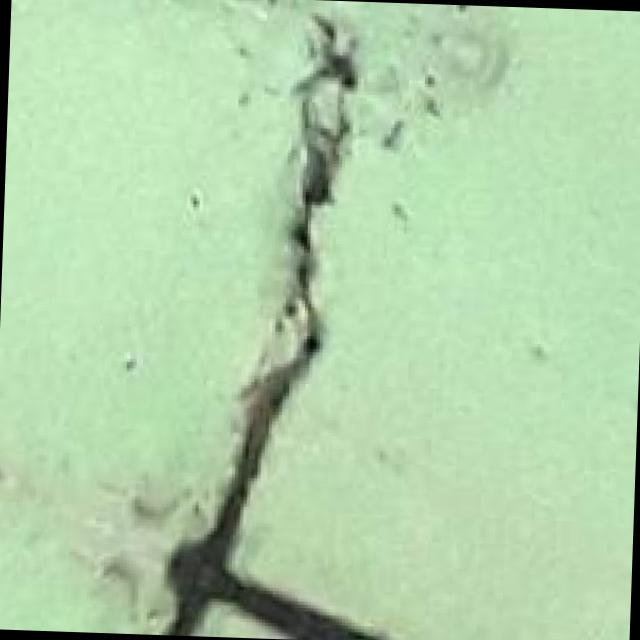crack: (139, 0, 414, 639)
